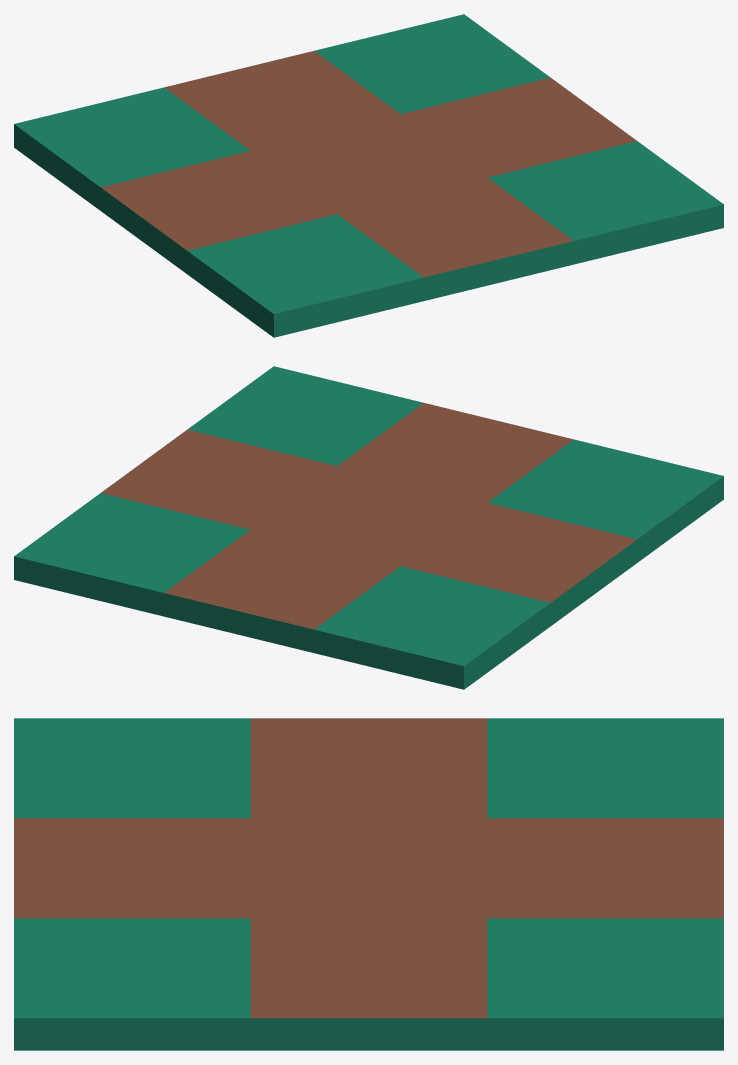
The model's file is grass-cross.fbx.
3 renders of one model, top to bottom at view 1: azimuth 30°, elevation 25°; view 2: azimuth 150°, elevation 25°; view 3: azimuth 270°, elevation 25°, orthographic. The views are drawn at different scales.
Parts seen in each view (by area): view 1: grass_cross; view 2: grass_cross; view 3: grass_cross.
Part boxes in pixels (x1,y1,x2,y2): grass_cross: (14,14,723,337); grass_cross: (14,366,723,689); grass_cross: (14,718,723,1050).
Size of the model in its own units: 400 by 400 by 20.
